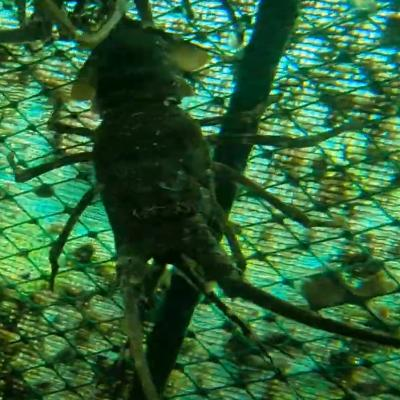lobster: (83, 25, 258, 303)
